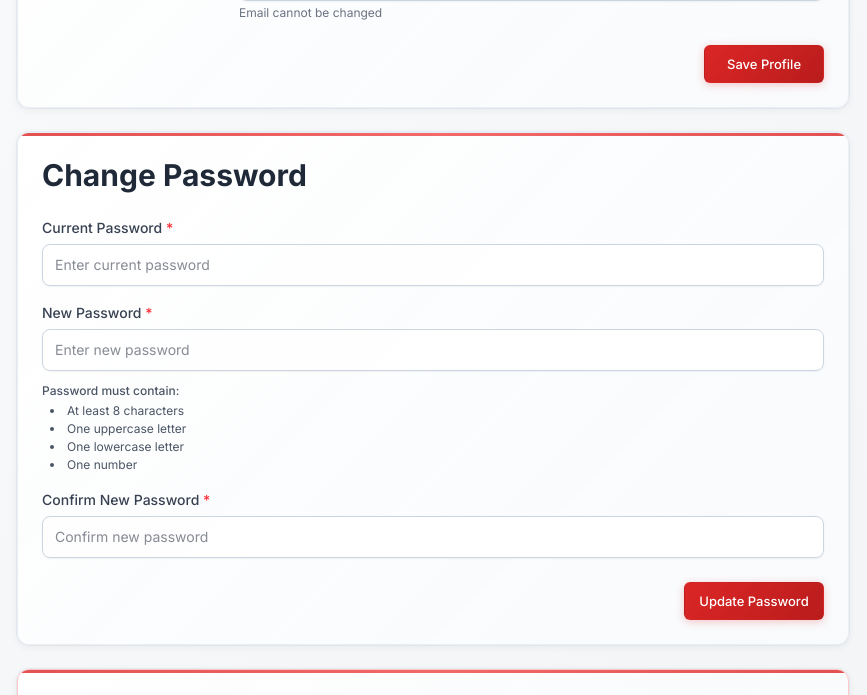
Test: ProfilePage › password form › should show validation error for missing current password
This screenshot has width=867, height=695.
(page scrolled)
Type "NewPass123" into the password field labelled "New Password *" at (433, 350), box [42,329,824,371]
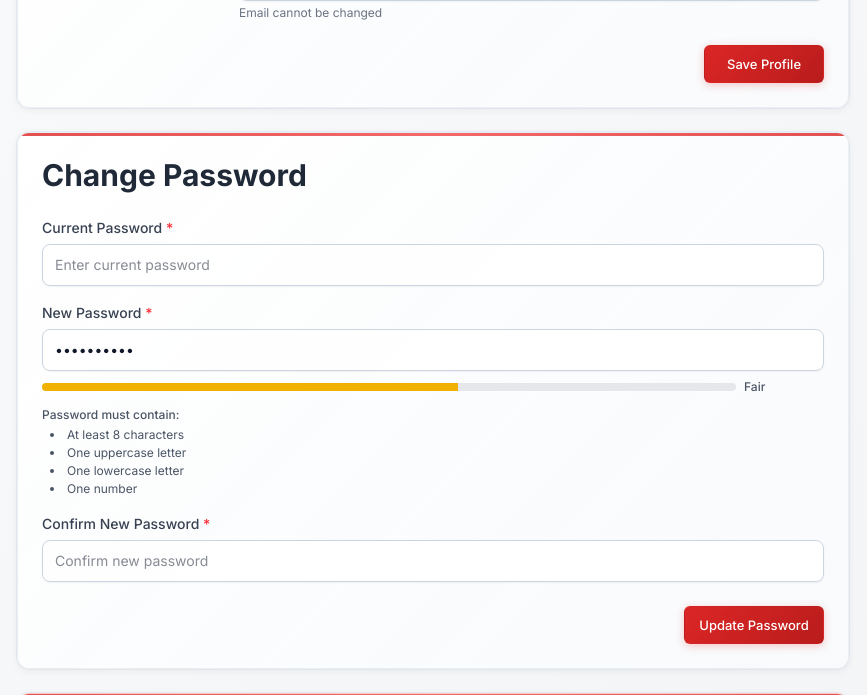
Type "NewPass123" into the password field labelled "Confirm New Password *" at (433, 561), box [42,540,824,582]
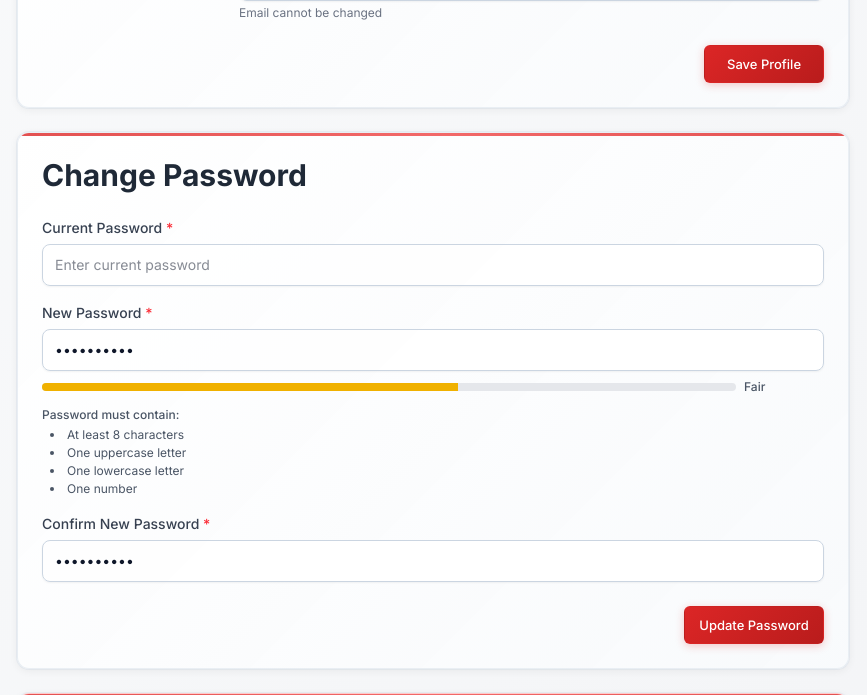
Submit the form labelled "New Password", box [42,217,824,644]
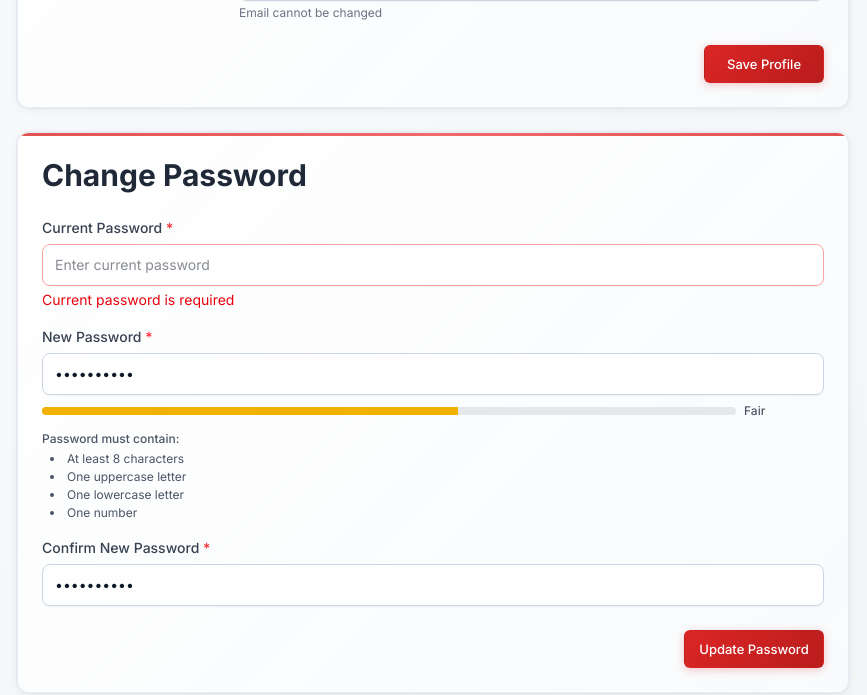
Now the text "Current password is required" is shown, box [42,291,234,308]
